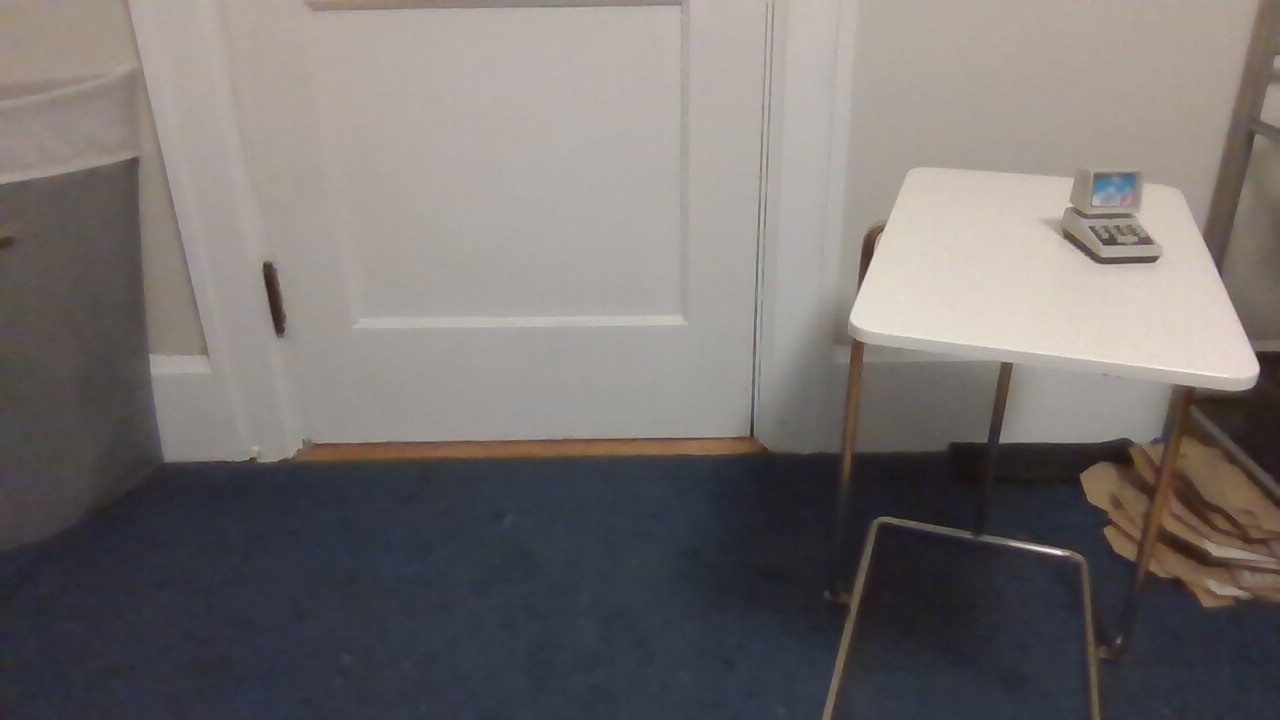Toy: (1059, 155, 1163, 272)
